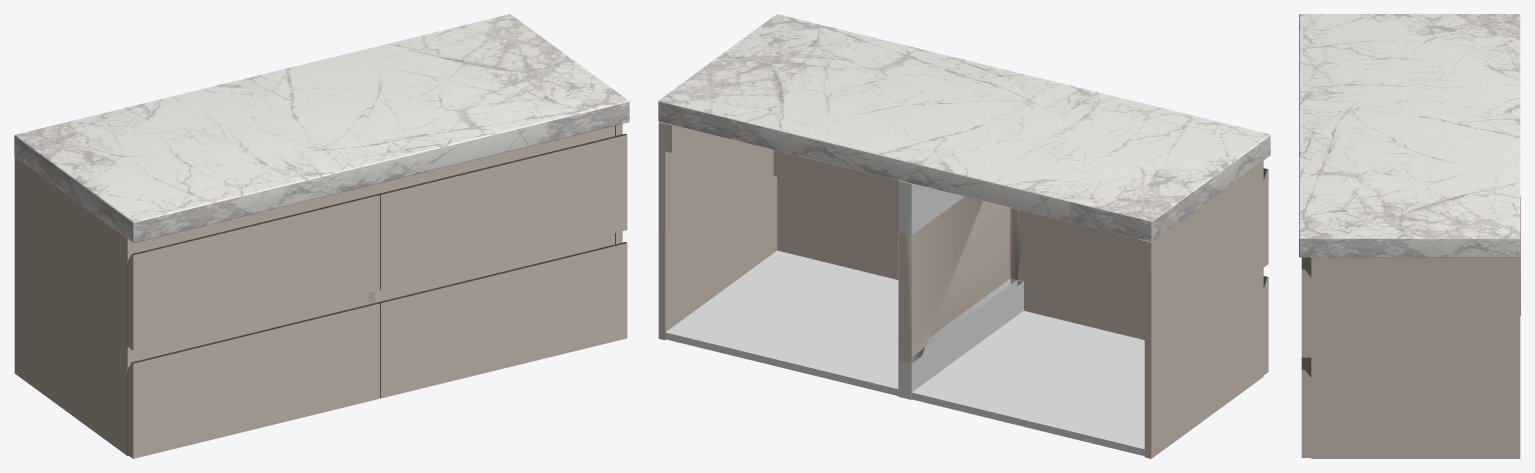
The picture shows the model from 3 angles, left to right: view 1: azimuth 30°, elevation 25°; view 2: azimuth 150°, elevation 25°; view 3: azimuth 270°, elevation 25°; orthographic projection. The views are drawn at different scales.
Visible parts, largest first — view 1: VX05; view 2: VX05; view 3: VX05.
Part boxes in pixels (x1,y1,x2,y2): VX05: [14, 14, 629, 458]; VX05: [658, 14, 1270, 458]; VX05: [1299, 14, 1520, 458].
Size of the model in its own units: 1.2 by 0.552 by 0.5013.
4 materials, 1 textured.
